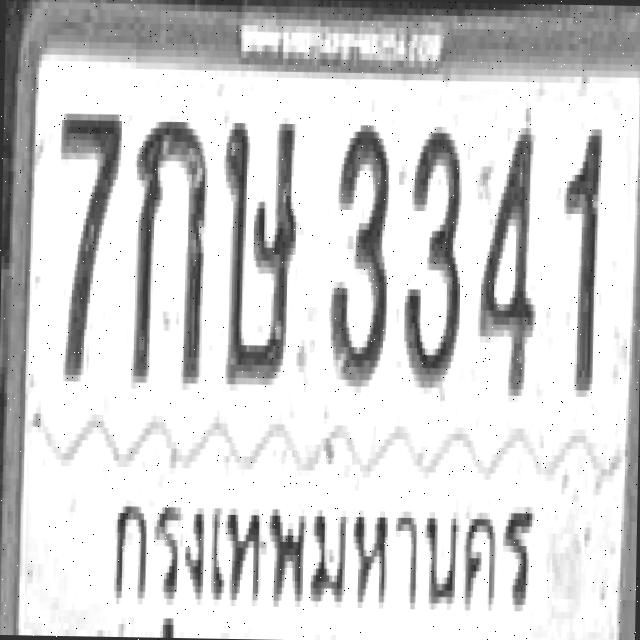1: (560, 124, 601, 393)
10GorGai: (130, 114, 206, 383)
3: (328, 118, 390, 386), (402, 123, 462, 384)
4: (476, 120, 536, 395)
48SorRueSi: (220, 116, 298, 385)
7: (56, 103, 120, 379)
Bangkok: (89, 444, 546, 640)
